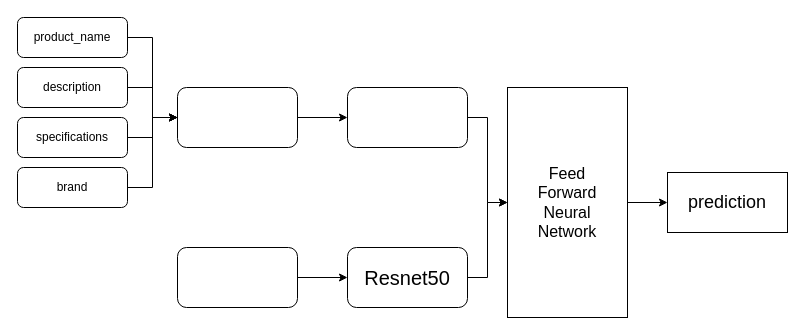
Image size: 805x335. Some labels were removed from this diagram. Each missing label, with the box of its shape:
Image: (176, 246, 298, 308)
Text: (176, 86, 298, 148)
ULMFiT: (346, 86, 468, 148)
